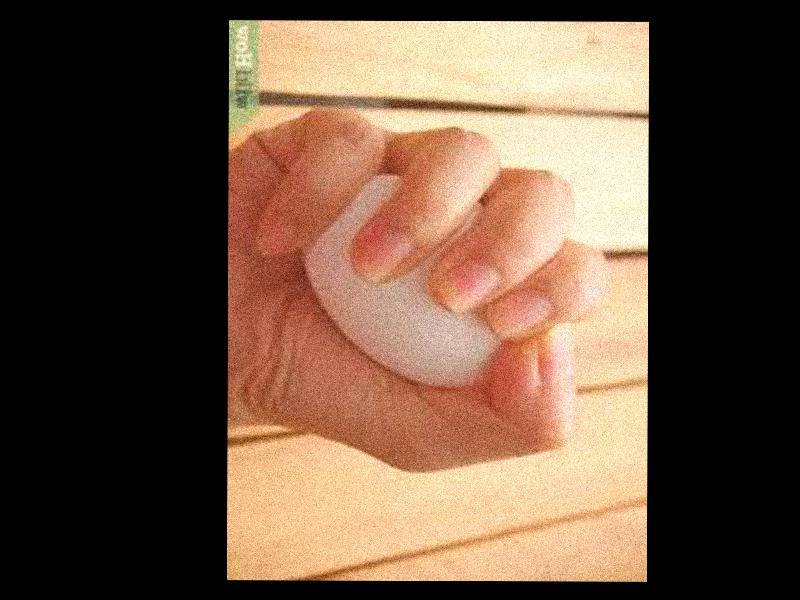Eggs: (303, 170, 524, 387)
